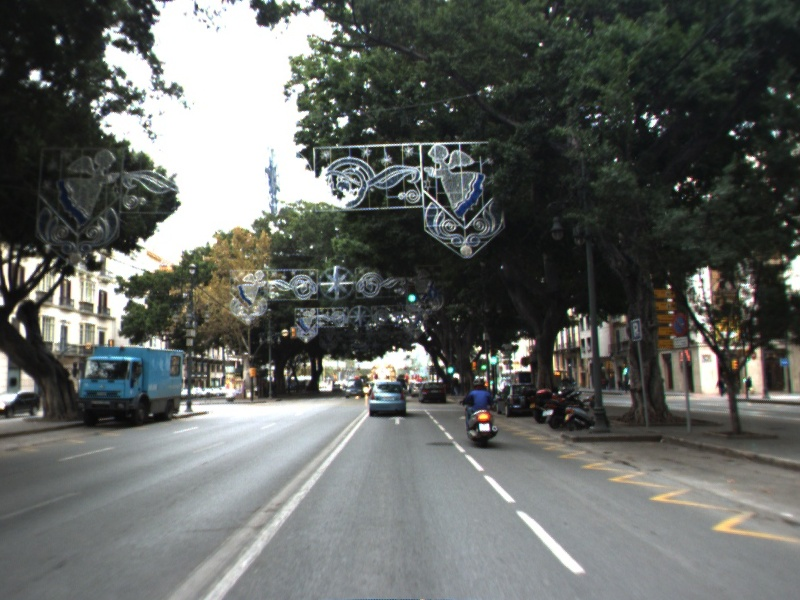STRAIGHT: (386, 414, 408, 426)
